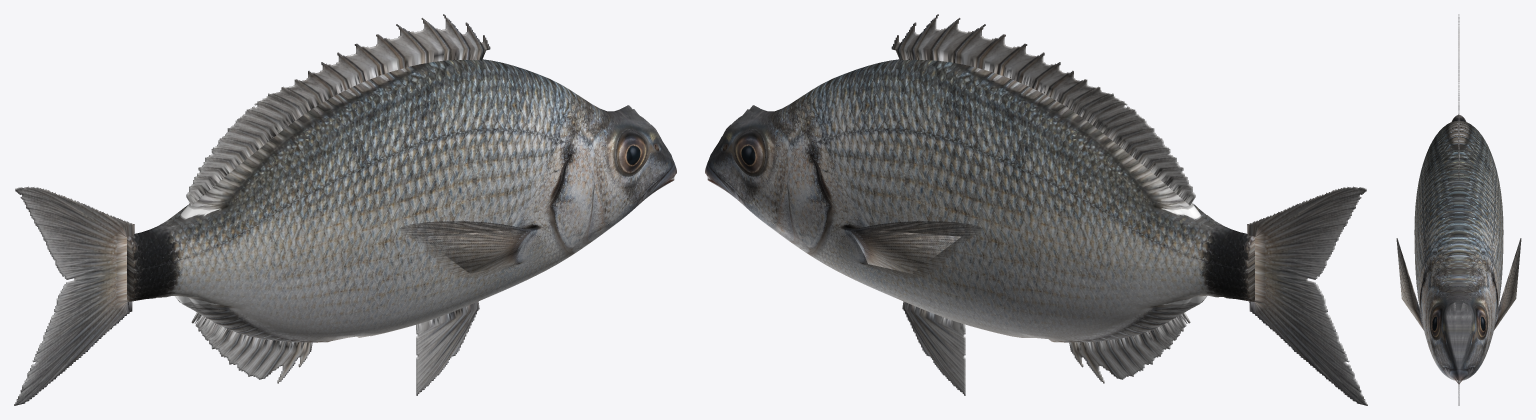
File: blacktail.glb
The picture shows the model from 3 angles, left to right: view 1: azimuth 30°, elevation 25°; view 2: azimuth 150°, elevation 25°; view 3: azimuth 270°, elevation 25°; orthographic projection. The views are drawn at different scales.
Visible parts, largest first — view 1: blacktail_realistic; view 2: blacktail_realistic; view 3: blacktail_realistic.
Boxes of the visible parts, x1,y1,x2,y2 form: blacktail_realistic: [14, 14, 676, 405]; blacktail_realistic: [705, 14, 1367, 405]; blacktail_realistic: [1396, 14, 1521, 405].
Size of the model in its own units: 1 by 0.5427 by 0.209.
3 materials, 3 textured.
